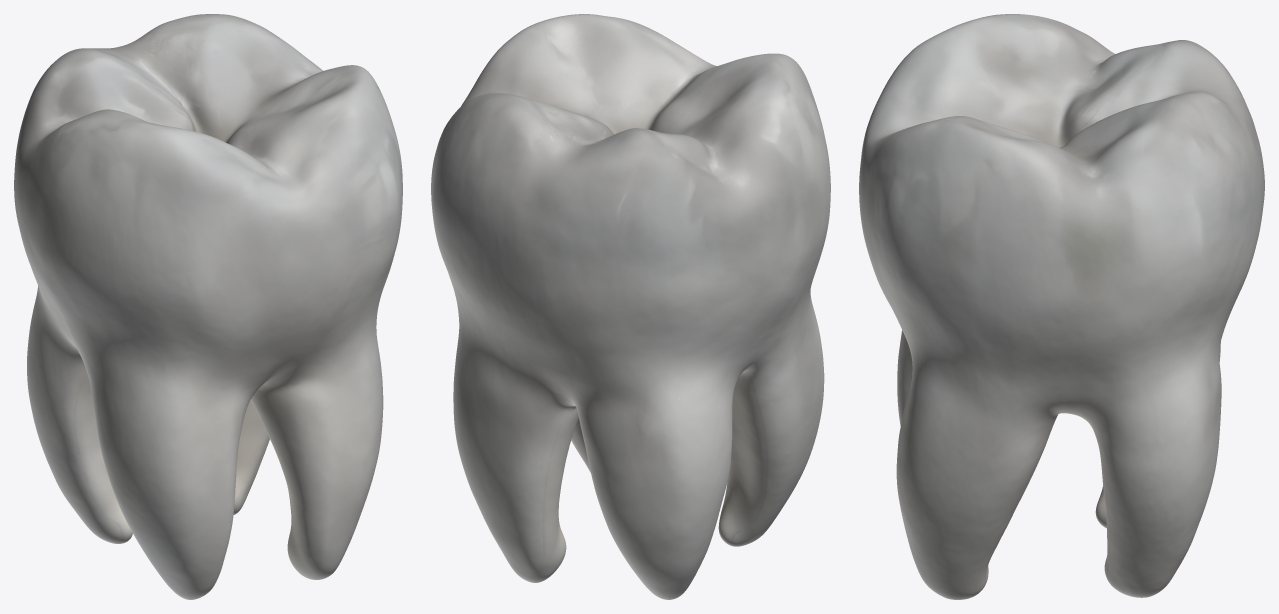
File: base_basic_pbr.glb
3 renders of one model, left to right at view 1: azimuth 30°, elevation 25°; view 2: azimuth 150°, elevation 25°; view 3: azimuth 270°, elevation 25°, orthographic. The views are drawn at different scales.
Parts seen in each view (by area): view 1: model; view 2: model; view 3: model.
Boxes of the visible parts, bbox=[...] form: model: bbox=[14, 14, 402, 599]; model: bbox=[431, 14, 830, 599]; model: bbox=[859, 14, 1264, 599].
Size of the model in its own units: 1.36 by 1.9 by 1.4.
1 material, 1 textured.
